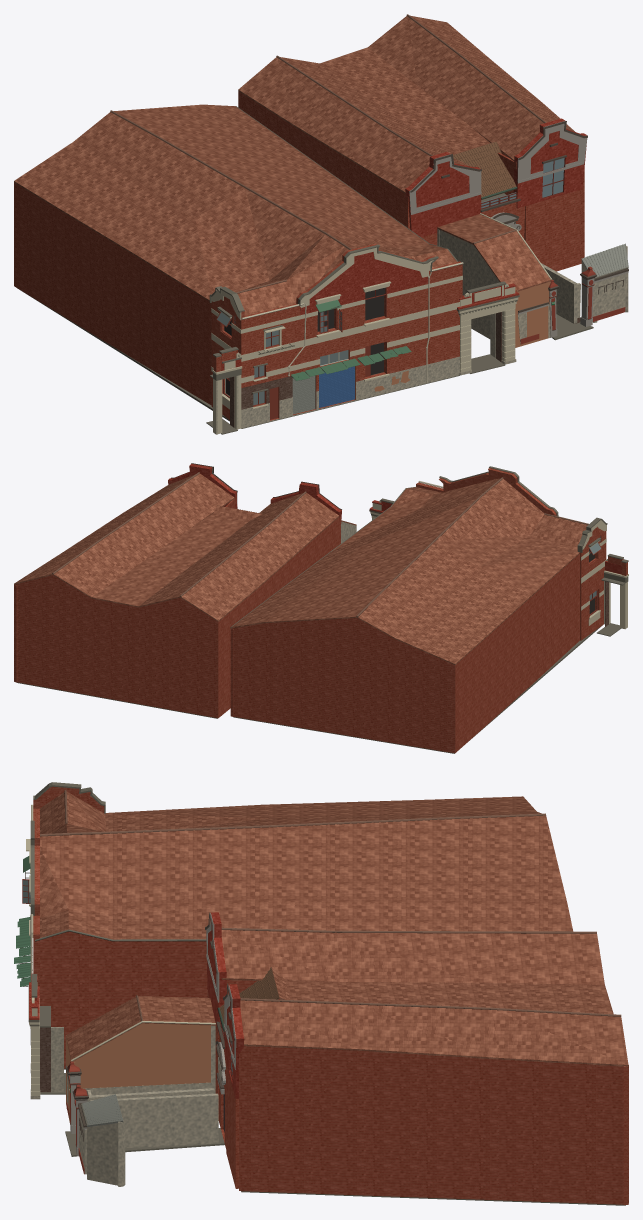
File: yangpu-yiqingli-jingxing-310-314-lane-houses-lod.glb
The picture shows the model from 3 angles, top to bottom: view 1: azimuth 30°, elevation 25°; view 2: azimuth 150°, elevation 25°; view 3: azimuth 270°, elevation 25°; orthographic projection. The views are drawn at different scales.
Parts seen in each view (by area): view 1: 颐庆里住宅，景星路街面; view 2: 颐庆里住宅，景星路街面; view 3: 颐庆里住宅，景星路街面.
Boxes of the visible parts, x1,y1,x2,y2 form: 颐庆里住宅，景星路街面: (14, 14, 628, 434); 颐庆里住宅，景星路街面: (14, 463, 628, 753); 颐庆里住宅，景星路街面: (14, 782, 628, 1205).
Size of the model in its own units: 32.16 by 9.81 by 29.62.
Materials: 28 (5 with a texture image).
